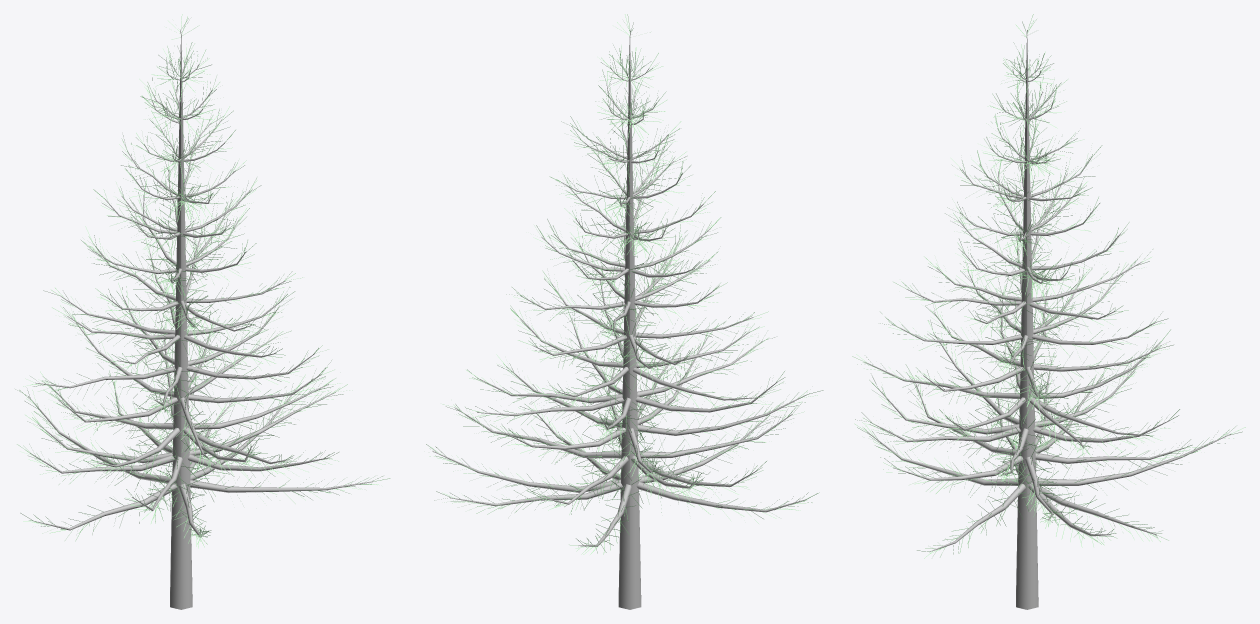
File: Sapin_Alban_LOD1.fbx
The picture shows the model from 3 angles, left to right: view 1: azimuth 30°, elevation 25°; view 2: azimuth 150°, elevation 25°; view 3: azimuth 270°, elevation 25°; orthographic projection.
Parts seen in each view (by area): view 1: Sapin-Alban_LOD1; view 2: Sapin-Alban_LOD1; view 3: Sapin-Alban_LOD1.
Boxes of the visible parts, x1,y1,x2,y2 form: Sapin-Alban_LOD1: (15,14,390,609); Sapin-Alban_LOD1: (426,14,823,609); Sapin-Alban_LOD1: (852,14,1245,609).
Bounding box in the file's own units: 176 × 279 × 170.
